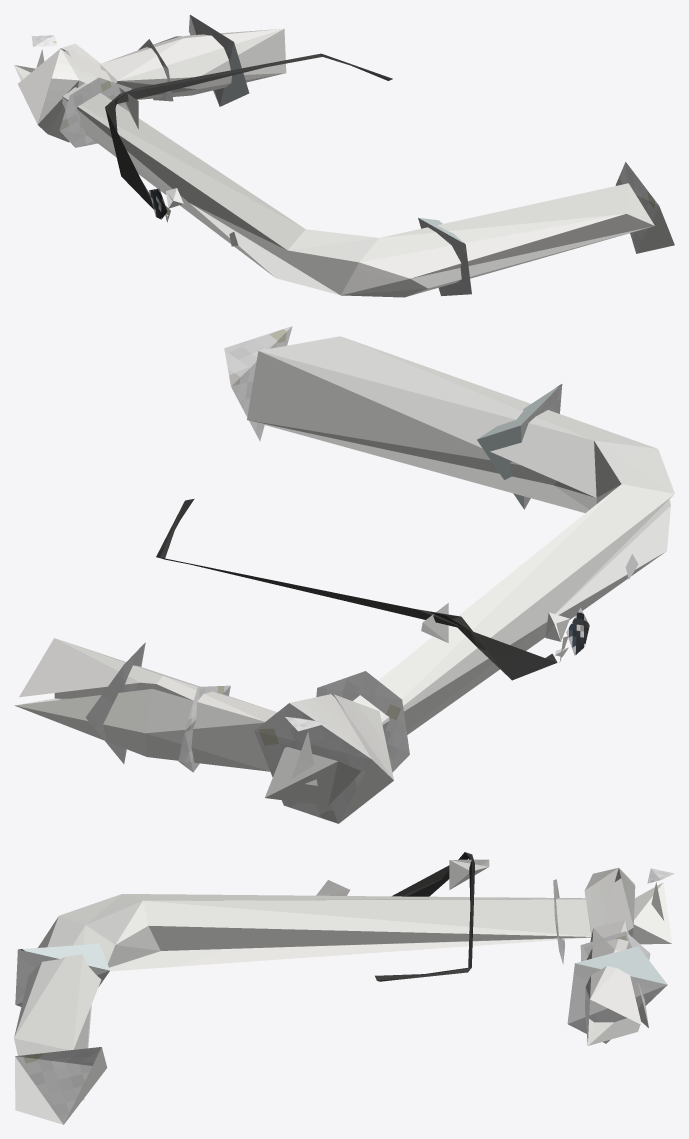
Rendered from peijian113-geode.glb.
3 views of the same model, one above another, from view 1: azimuth 30°, elevation 25°; view 2: azimuth 150°, elevation 25°; view 3: azimuth 270°, elevation 25° (orthographic). The views are drawn at different scales.
Parts seen in each view (by area): view 1: Node; view 2: Node; view 3: Node.
Part boxes in pixels (left/top/right/bottom): Node: left=14, top=15, right=674, bottom=297; Node: left=14, top=326, right=674, bottom=823; Node: left=14, top=852, right=674, bottom=1124.
Size of the model in its own units: 1.07 by 0.2763 by 1.57.
Materials: 1 (1 with a texture image).
